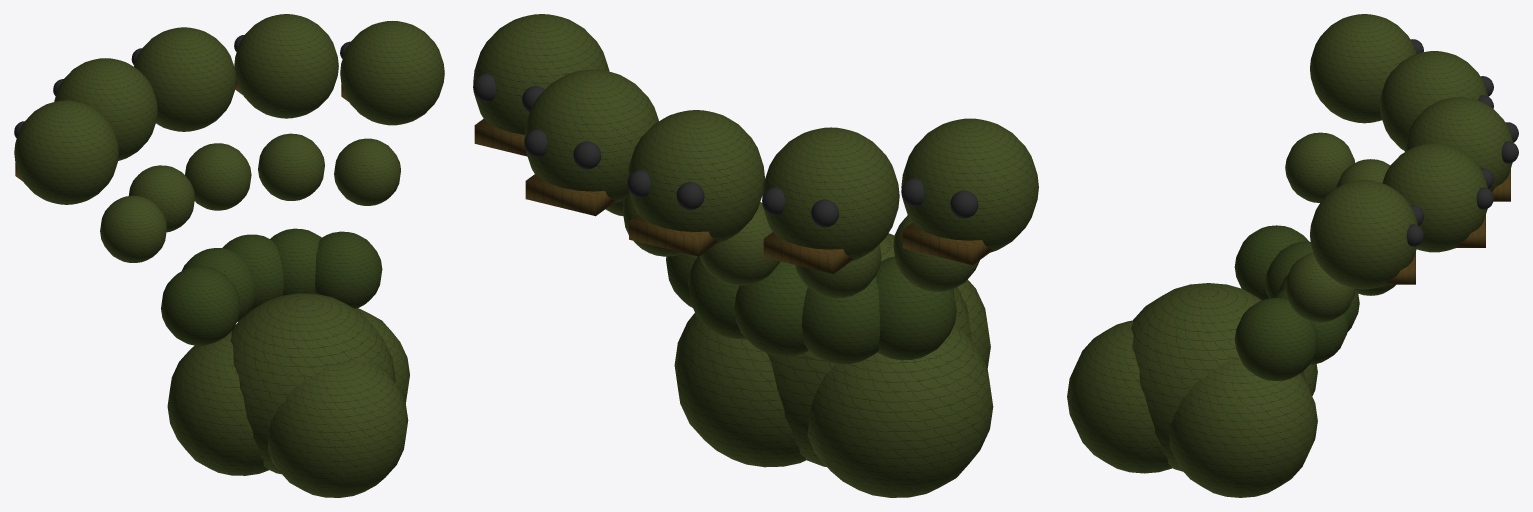
Rendered from hydra.glb.
3 views of the same model, side by side, from view 1: azimuth 30°, elevation 25°; view 2: azimuth 150°, elevation 25°; view 3: azimuth 270°, elevation 25° (orthographic). The views are drawn at different scales.
Visible parts, largest first — view 1: BodyMass.003, BodyMass, BodyMass.002, Head.004, Head, Head.003, Head.002, Head.001, Neck.001, Neck.013, Neck.014, Neck.002 (+7 smaller); view 2: BodyMass.002, Head.001, Head, Head.002, BodyMass.001, Head.003, Head.004, Neck.001, Neck.004, Neck.007, BodyMass, Neck.008 (+15 smaller); view 3: BodyMass.001, BodyMass, BodyMass.003, Head.004, Head, Head.003, Head.001, Neck.013, Head.002, Neck.002, Neck.014, Neck.001 (+3 smaller).
Part boxes in pixels (box(x1,y1,x2,y2)): BodyMass.003: box(267, 360, 408, 497); BodyMass: box(230, 293, 395, 474); BodyMass.002: box(167, 331, 268, 475); Head.004: box(340, 21, 444, 125); Head: box(14, 100, 118, 204); Head.003: box(234, 14, 338, 118); Head.002: box(134, 27, 236, 131); Head.001: box(54, 58, 157, 160); Neck.001: box(161, 266, 240, 345); Neck.013: box(315, 231, 382, 308); Neck.014: box(334, 138, 400, 205); Neck.002: box(100, 195, 166, 262); BodyMass.002: box(807, 325, 993, 497); Head.001: box(762, 127, 899, 261); Head: box(901, 118, 1038, 252); Head.002: box(627, 110, 764, 243); BodyMass.001: box(674, 313, 806, 467); Head.003: box(524, 69, 658, 203); Head.004: box(473, 14, 609, 134); Neck.001: box(876, 256, 956, 360); Neck.004: box(802, 276, 880, 363); Neck.007: box(734, 261, 808, 356); BodyMass: box(767, 233, 972, 466); Neck.008: box(699, 202, 779, 285); BodyMass.001: box(1168, 358, 1317, 497); BodyMass: box(1131, 283, 1304, 471); BodyMass.003: box(1067, 320, 1171, 473); Head.004: box(1310, 180, 1418, 289); Head: box(1310, 14, 1416, 123); Head.003: box(1382, 143, 1488, 252); Head.001: box(1380, 51, 1487, 150); Neck.013: box(1234, 298, 1317, 380); Head.002: box(1404, 97, 1512, 191); Neck.002: box(1285, 132, 1354, 202); Neck.014: box(1285, 252, 1355, 322); Neck.001: box(1234, 225, 1308, 300).
Size of the model in its own units: 1.56 by 1.25 by 1.41.
Materials: 4 (3 with a texture image).
